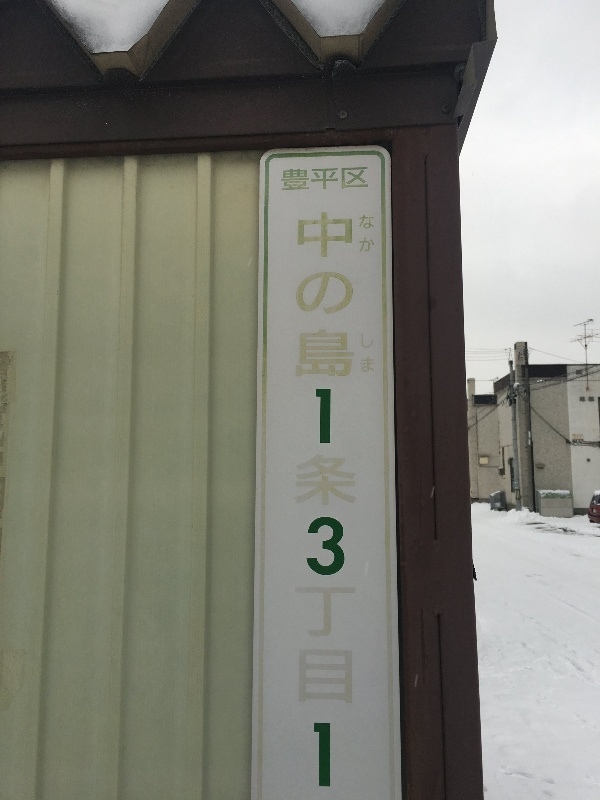text: (305, 212, 320, 792), (321, 212, 336, 792), (337, 212, 352, 792), (298, 212, 304, 792), (353, 212, 355, 792), (289, 167, 304, 192), (305, 167, 320, 192), (321, 167, 336, 192), (337, 167, 352, 192), (353, 167, 368, 192), (360, 215, 368, 253), (361, 333, 368, 374), (369, 215, 375, 253), (369, 333, 374, 374), (282, 167, 288, 192)
